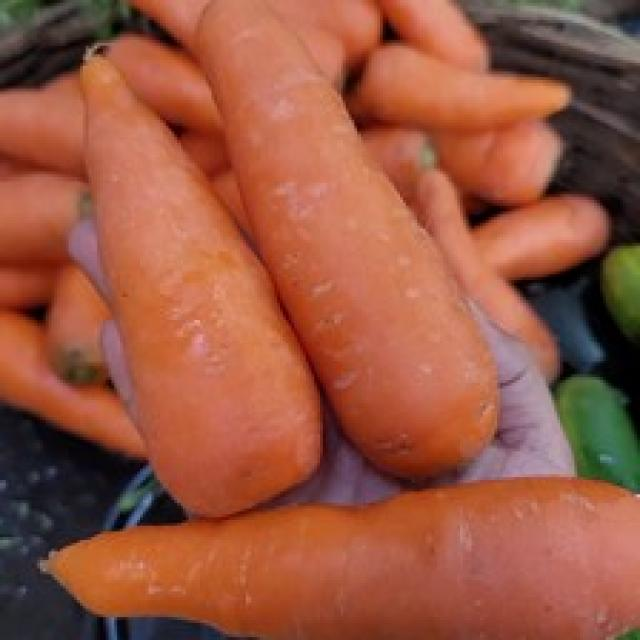Fresh_Carrot: (203, 10, 504, 476), (92, 49, 297, 520), (58, 477, 640, 636)
